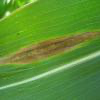Corn leaf blight: (1, 2, 99, 89)
